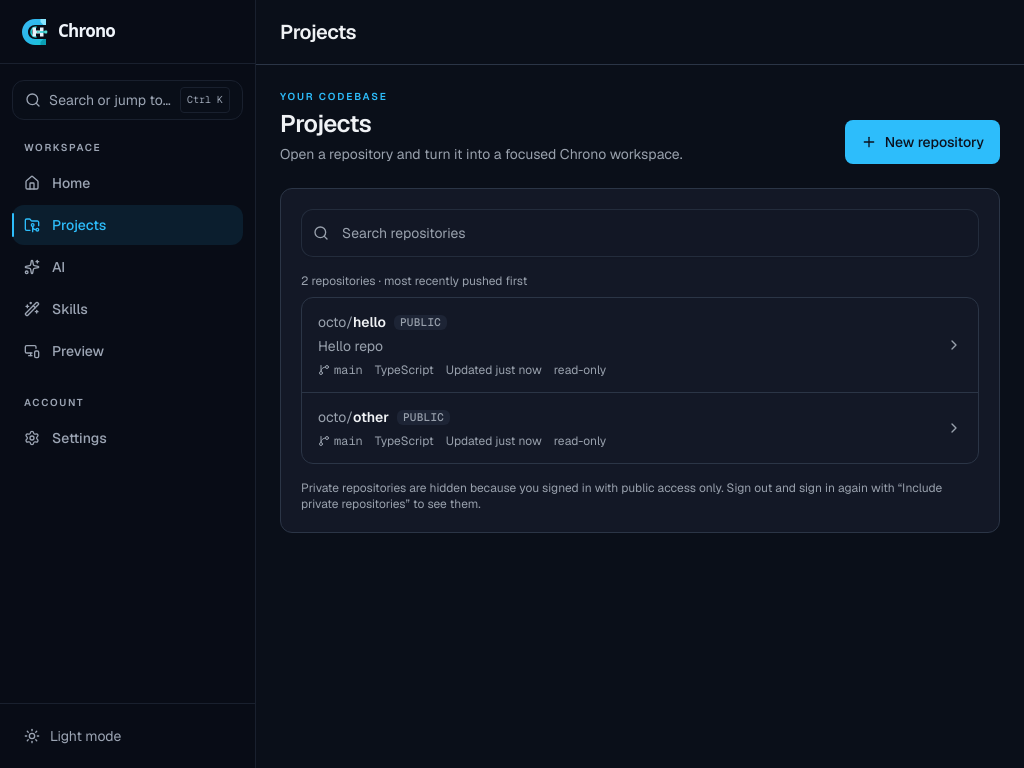
Test case: GitHub projects › lists repositories and filters them
Expected: the link with test id "row-repo-octo/hello" is shown, [302,298,978,392]
Expected: the text "read-only" below "Hello repo" is shown, [554,362,606,378]
Type "oth" into the search field with test id "input-search-projects" at (640, 233), box [301,209,979,257]
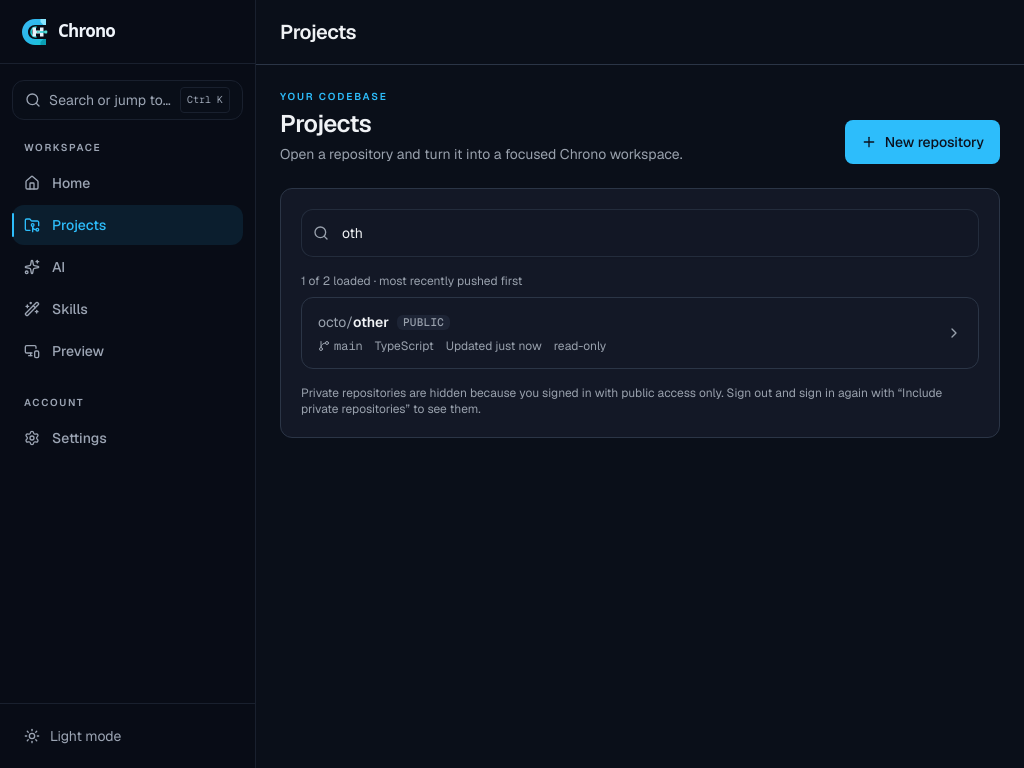
Expected: the link with test id "row-repo-octo/other" is shown, [318,313,962,354]
Now the link with test id "row-repo-octo/hello" is gone
